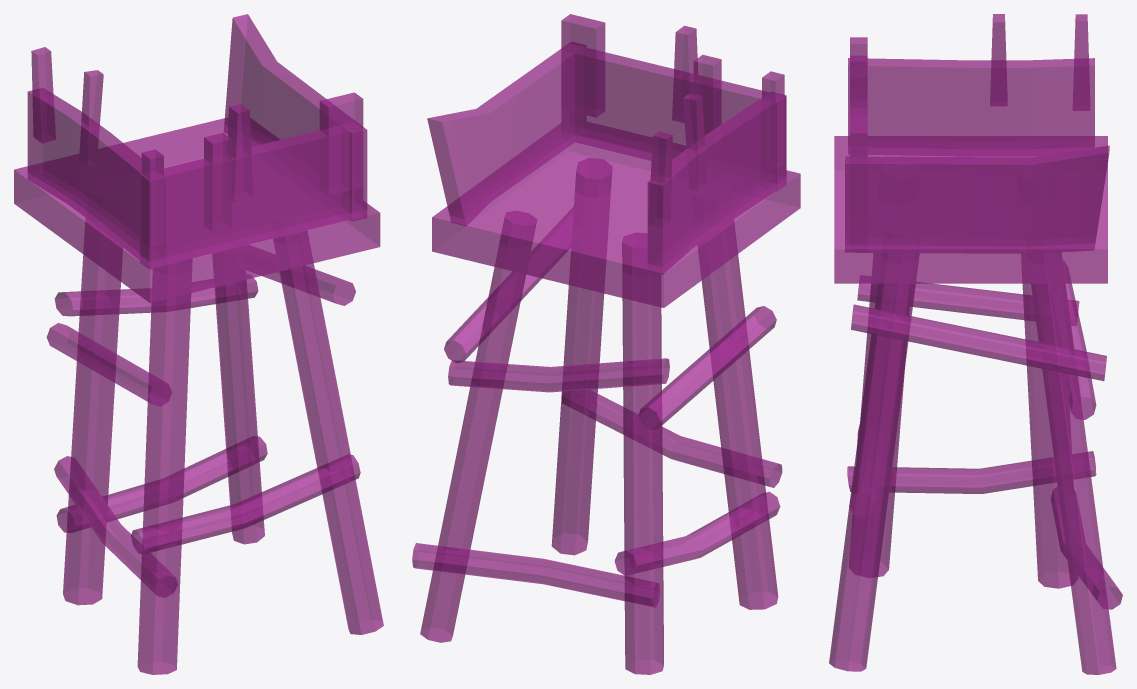
The model's file is SM_Bld_Tower_05_Collision.fbx.
3 renders of one model, left to right at view 1: azimuth 30°, elevation 25°; view 2: azimuth 150°, elevation 25°; view 3: azimuth 270°, elevation 25°, orthographic.
Parts seen in each view (by area): view 1: SM_Bld_Tower_05_Collision; view 2: SM_Bld_Tower_05_Collision; view 3: SM_Bld_Tower_05_Collision.
Part boxes in pixels (bbox=[...]): SM_Bld_Tower_05_Collision: bbox=[14, 14, 383, 674]; SM_Bld_Tower_05_Collision: bbox=[412, 14, 800, 674]; SM_Bld_Tower_05_Collision: bbox=[829, 14, 1122, 674].
Size of the model in its own units: 373 by 791 by 379.
